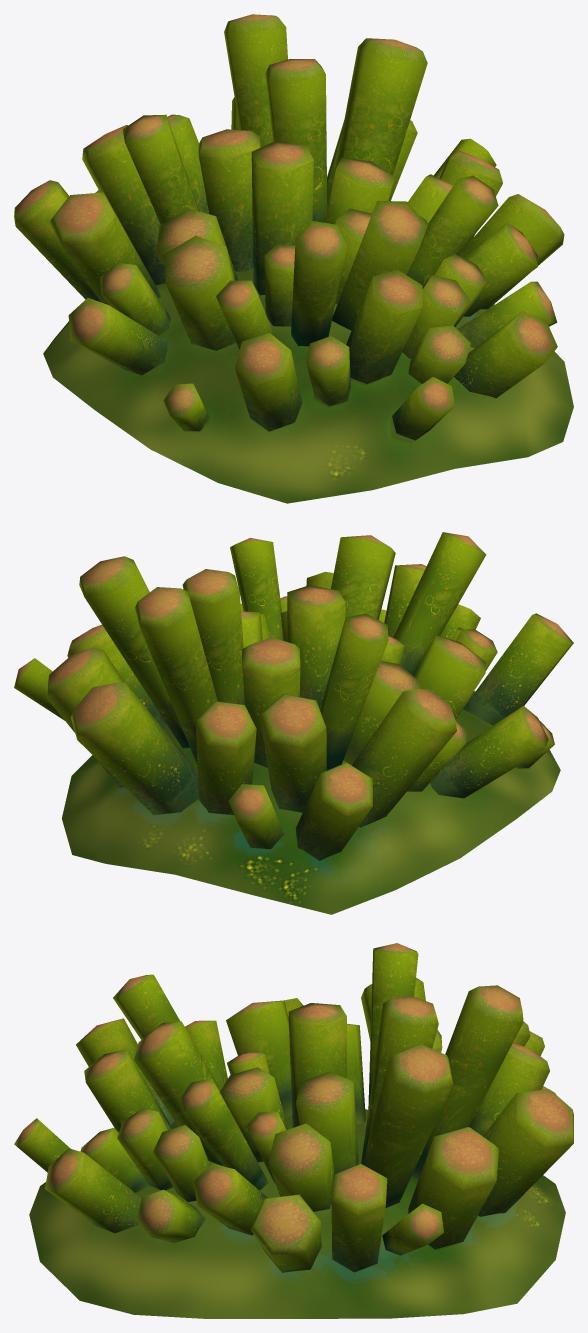
The model's file is Sce_Aquarium_Hawaii01_SeaAnemone11.FBX.
3 views of the same model, one above another, from view 1: azimuth 30°, elevation 25°; view 2: azimuth 150°, elevation 25°; view 3: azimuth 270°, elevation 25° (orthographic). The views are drawn at different scales.
Visible parts, largest first — view 1: Sce_Aquarium_Hawaii01_SeaAnemone11; view 2: Sce_Aquarium_Hawaii01_SeaAnemone11; view 3: Sce_Aquarium_Hawaii01_SeaAnemone11.
Part boxes in pixels (box(x1,y1,x2,y2)): Sce_Aquarium_Hawaii01_SeaAnemone11: box(14, 14, 573, 503); Sce_Aquarium_Hawaii01_SeaAnemone11: box(14, 532, 573, 914); Sce_Aquarium_Hawaii01_SeaAnemone11: box(14, 943, 573, 1318).
Size of the model in its own units: 1.22 by 0.694 by 1.29.
